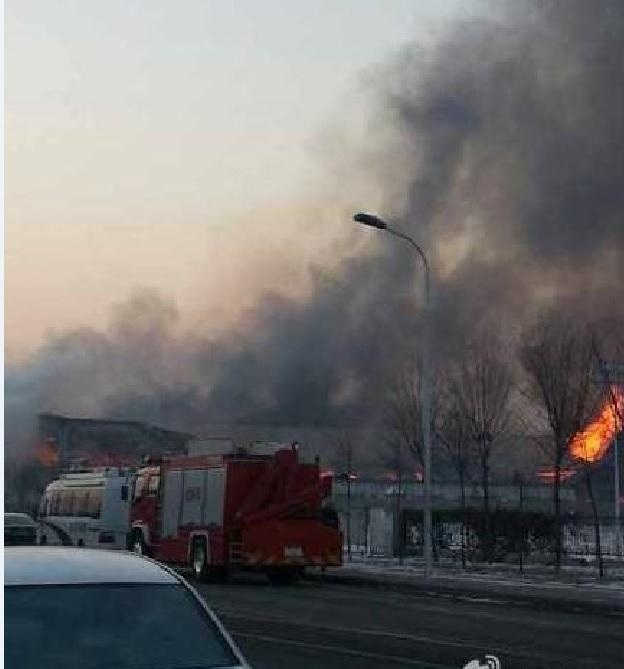fire: (566, 384, 621, 461)
